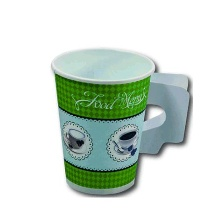paper_cup: (46, 41, 196, 202)
